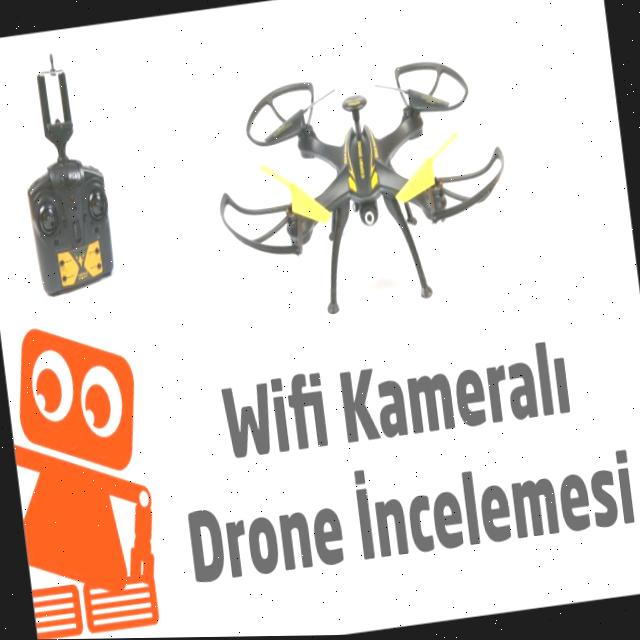drone: (188, 45, 528, 332)
